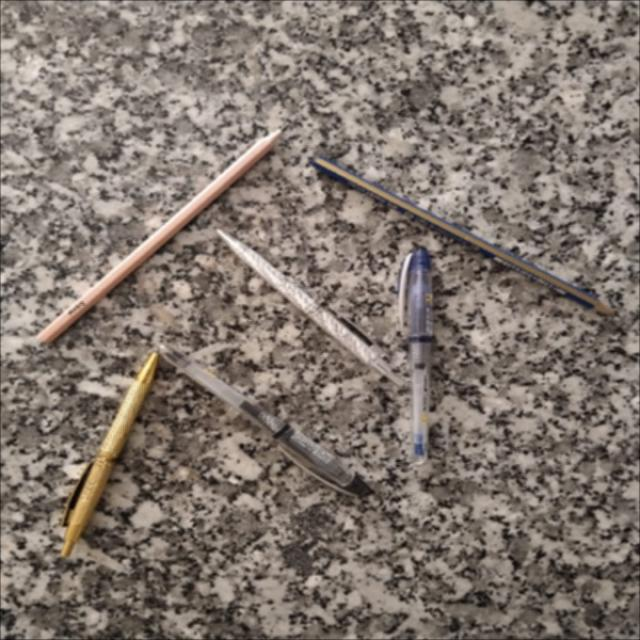pen: (162, 347, 372, 496), (397, 247, 434, 468)
pencil: (38, 131, 279, 342), (311, 158, 613, 315)
signature pen: (219, 229, 405, 385), (58, 352, 156, 557)
